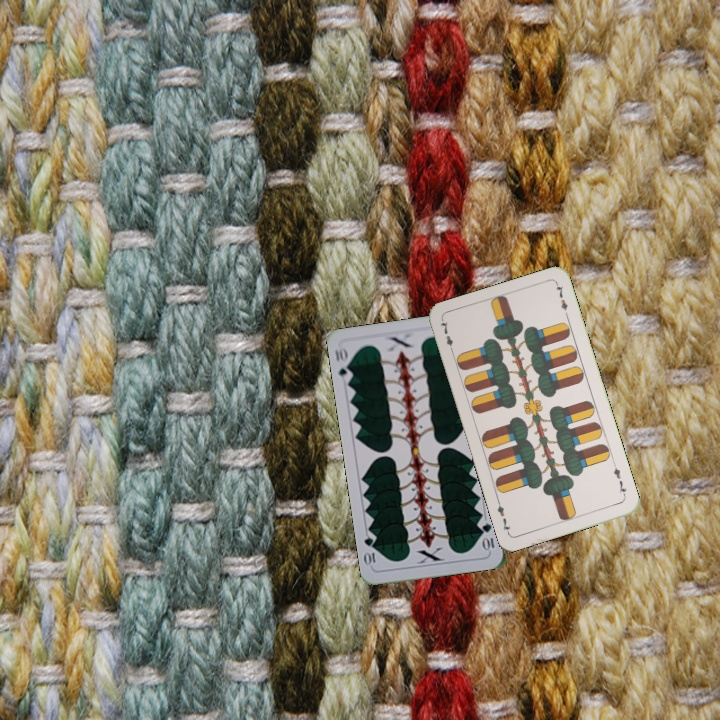E7: (609, 460, 629, 500), (436, 317, 456, 356)
G10: (331, 343, 355, 383), (478, 519, 497, 553)
